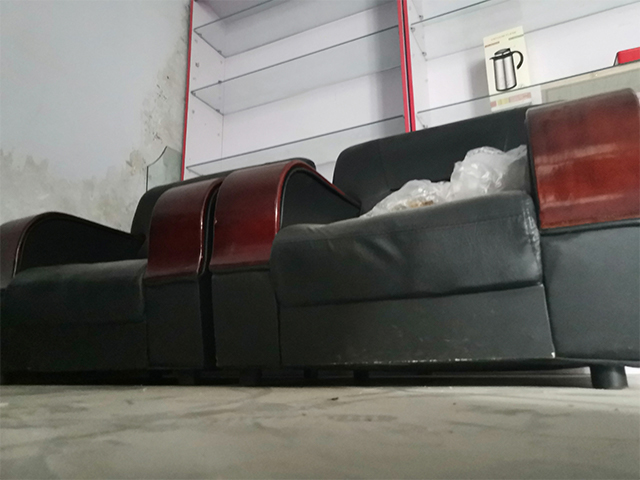sofa: (209, 93, 640, 391), (1, 172, 214, 384)
